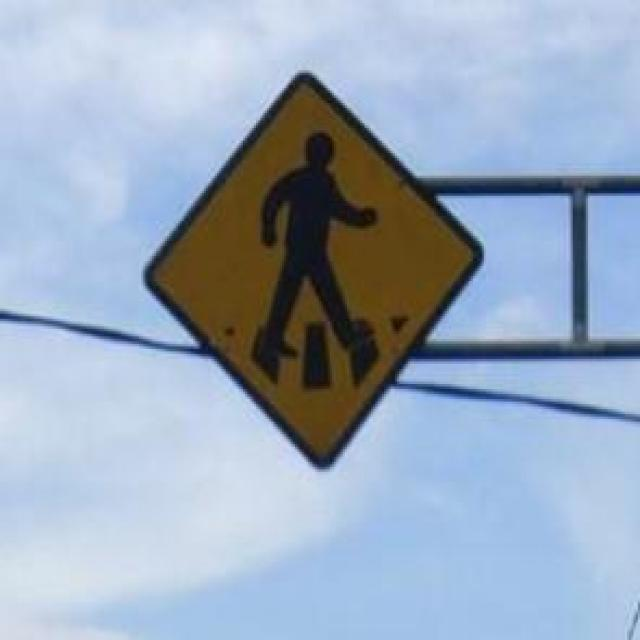traffic sign: (152, 78, 484, 470)
